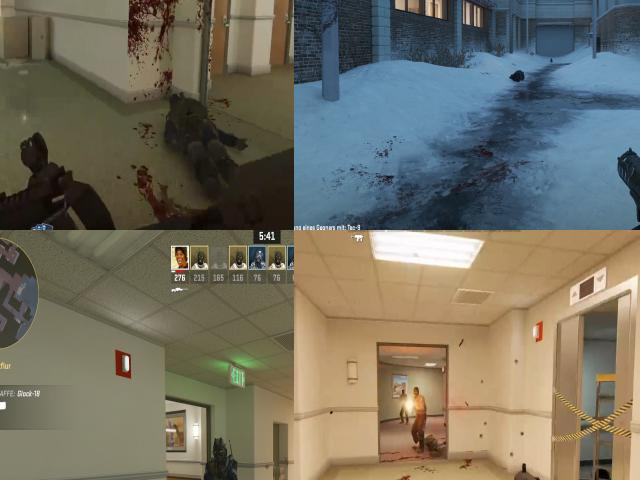CT: (202, 438, 240, 480)
CT-Head: (212, 437, 228, 462)
Dead: (422, 430, 452, 462), (511, 69, 526, 83)
T: (411, 385, 427, 446), (398, 387, 409, 424)
T-Head: (413, 386, 421, 399), (400, 387, 408, 396)
